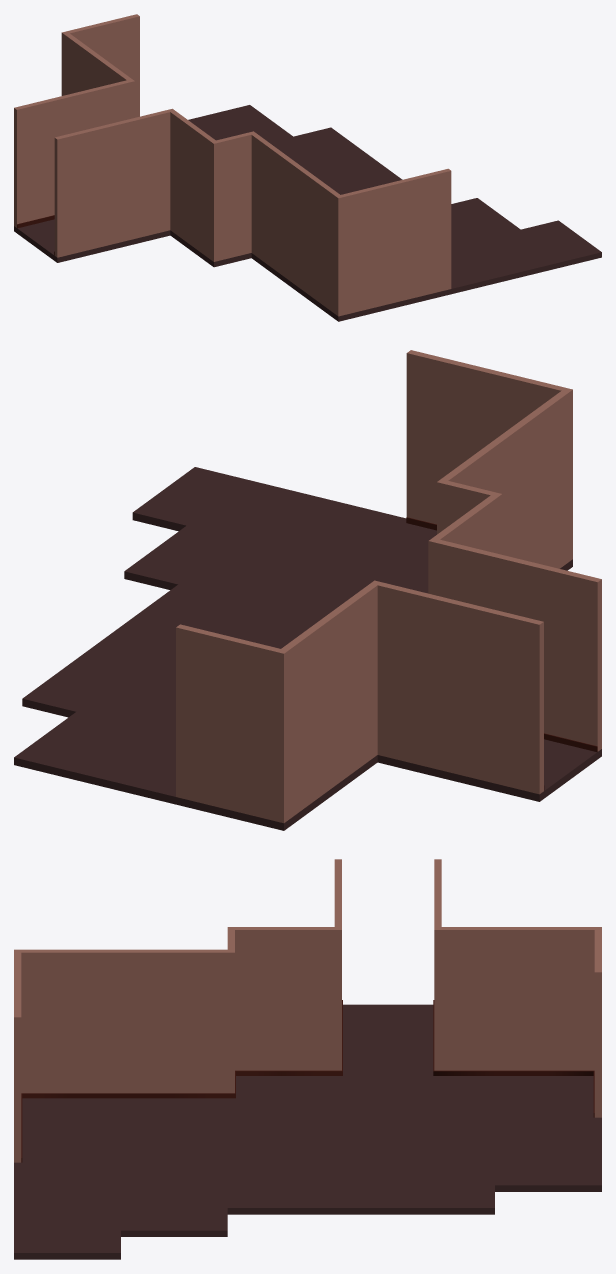
The model's file is Etage4_Sol.fbx.
The picture shows the model from 3 angles, top to bottom: view 1: azimuth 30°, elevation 25°; view 2: azimuth 150°, elevation 25°; view 3: azimuth 270°, elevation 25°; orthographic projection. The views are drawn at different scales.
Visible parts, largest first — view 1: Etage4_Sol; view 2: Etage4_Sol; view 3: Etage4_Sol.
Part boxes in pixels (x1,y1,x2,y2): Etage4_Sol: (14,14,601,321); Etage4_Sol: (14,350,601,830); Etage4_Sol: (14,859,601,1259).
Bounding box in the file's own units: 1100 × 313 × 1100.
